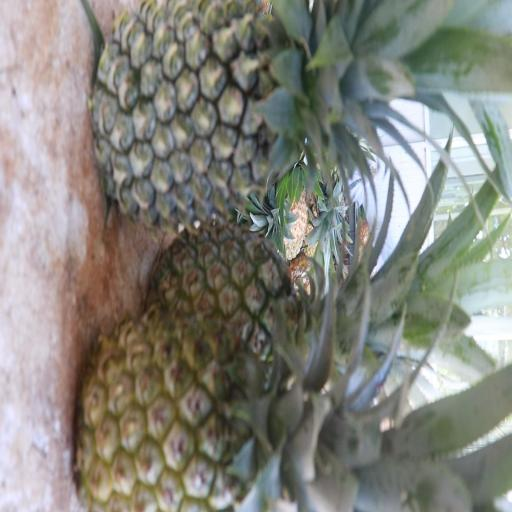------------------------------: (69, 298, 401, 512), (140, 216, 366, 377)
